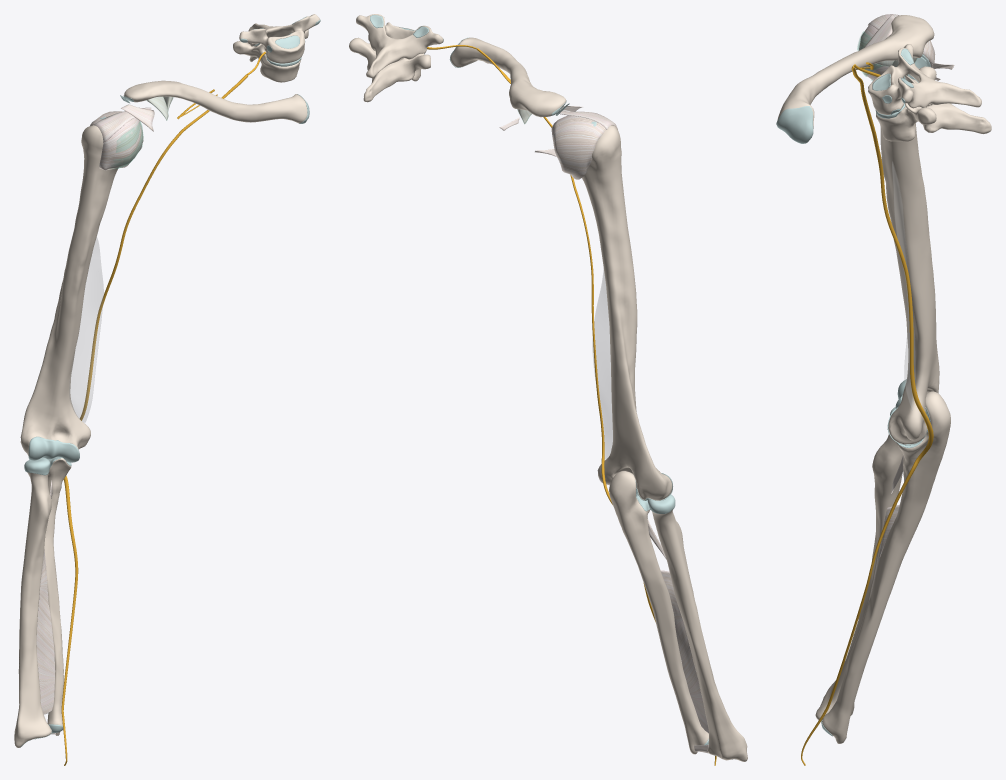
The model's file is open3dmodel-ulnar-nerve.glb.
3 views of the same model, side by side, from view 1: azimuth 30°, elevation 25°; view 2: azimuth 150°, elevation 25°; view 3: azimuth 270°, elevation 25° (orthographic). The views are drawn at different scales.
Visible parts, largest first — view 1: Humerus.r, Radius.r, Medial intermuscular septum of arm.r, Clavicle.r, Ulna.r, Interosseous membrane of forearm.r, Ulnar nerve.r, Thoracic vertebra (T1), Articular capsule of glenohumeral joint.r, Thoracic vertebra (T2), Art cart of humerus distal end.r, Coracohumeral ligament.r; view 2: Humerus.r, Ulna.r, Radius.r, Clavicle.r, Thoracic vertebra (T1), Articular capsule of glenohumeral joint.r, Medial intermuscular septum of arm.r, Thoracic vertebra (T2), Interosseous membrane of forearm.r, Ulnar nerve.r; view 3: Humerus.r, Ulna.r, Clavicle.r, Thoracic vertebra (T1), Radius.r, Thoracic vertebra (T2), Ulnar nerve.r, Medial intermuscular septum of arm.r, Art cart of sternoclavicular joint on clavicle.r, Articular capsule of glenohumeral joint.r, Vertebra T1 art cart, Interosseous membrane of forearm.r.
Part boxes in pixels (x1,y1,x2,y2): Humerus.r: (20, 125, 118, 455); Radius.r: (14, 472, 51, 747); Medial intermuscular septum of arm.r: (69, 237, 103, 422); Clavicle.r: (124, 80, 307, 123); Ulna.r: (44, 458, 71, 735); Interosseous membrane of forearm.r: (36, 549, 55, 714); Ulnar nerve.r: (61, 163, 158, 765); Thoracic vertebra (T1): (239, 14, 319, 63); Articular capsule of glenohumeral joint.r: (90, 111, 143, 170); Thoracic vertebra (T2): (233, 29, 308, 82); Art cart of humerus distal end.r: (28, 436, 79, 462); Coracohumeral ligament.r: (93, 107, 151, 143); Humerus.r: (582, 125, 672, 500); Ulna.r: (609, 471, 708, 754); Radius.r: (652, 510, 747, 761); Clavicle.r: (450, 37, 566, 117); Thoracic vertebra (T1): (356, 14, 443, 78); Articular capsule of glenohumeral joint.r: (551, 115, 605, 179); Medial intermuscular septum of arm.r: (592, 269, 612, 459); Thoracic vertebra (T2): (349, 37, 430, 102); Interosseous membrane of forearm.r: (660, 570, 708, 733); Ulnar nerve.r: (570, 174, 716, 765); Humerus.r: (880, 14, 939, 444); Ulna.r: (822, 391, 950, 743); Clavicle.r: (777, 15, 934, 128); Thoracic vertebra (T1): (868, 44, 981, 114); Radius.r: (815, 434, 902, 719); Thoracic vertebra (T2): (876, 66, 991, 141); Ulnar nerve.r: (801, 105, 933, 765); Medial intermuscular septum of arm.r: (892, 162, 915, 410); Art cart of sternoclavicular joint on clavicle.r: (776, 106, 813, 143); Articular capsule of glenohumeral joint.r: (858, 25, 935, 80); Vertebra T1 art cart: (872, 48, 918, 114); Interosseous membrane of forearm.r: (870, 504, 899, 595).
Bounding box in the file's own units: 0.3276 × 0.6148 × 0.139.
14 materials, 3 textured.
